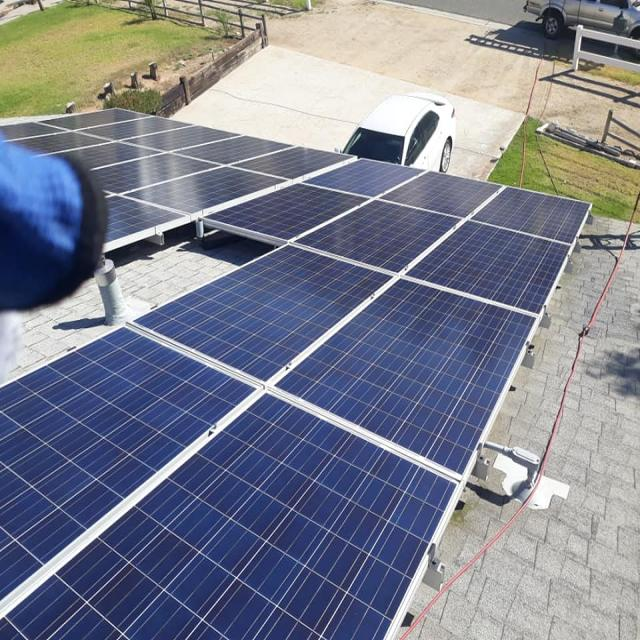clean-solar-panel: (0, 110, 589, 638)
